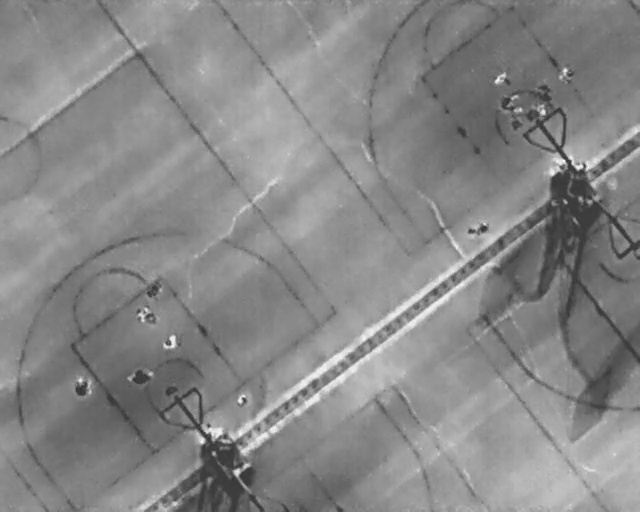Person: (500, 90, 522, 113), (128, 367, 153, 386), (489, 68, 510, 89), (72, 375, 90, 397), (135, 307, 156, 322), (163, 333, 179, 352), (559, 65, 573, 83), (467, 222, 481, 239), (146, 282, 161, 297), (537, 103, 549, 117), (237, 393, 248, 407), (479, 221, 489, 233)
